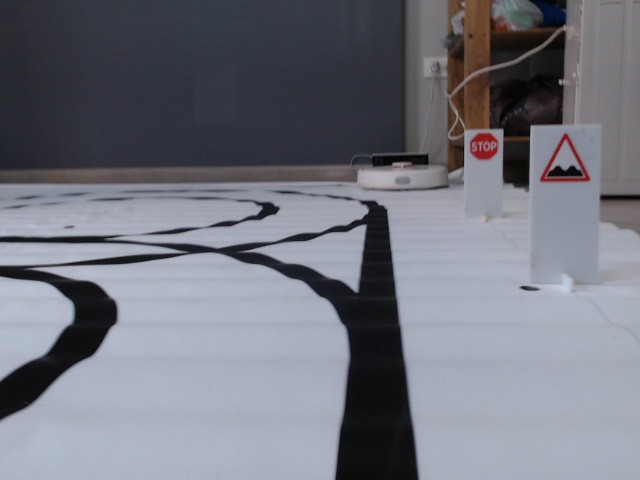Nerov: (537, 132, 594, 184)
Stop: (469, 131, 499, 161)
